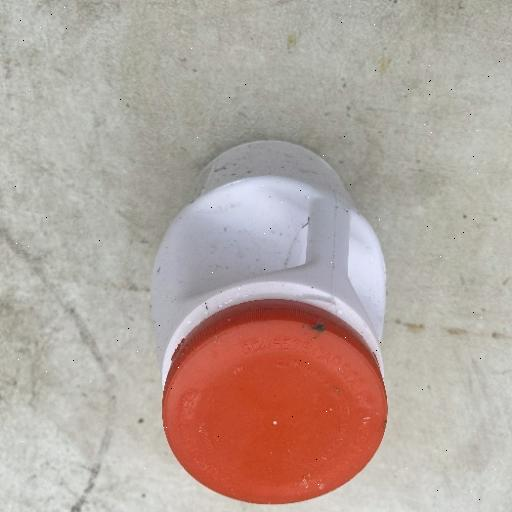Plastic: (146, 136, 394, 504)
